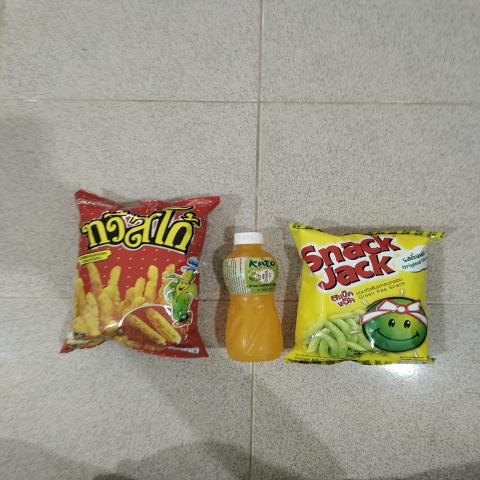snack_jack: (303, 241, 418, 349)
twisco: (85, 204, 202, 353)
